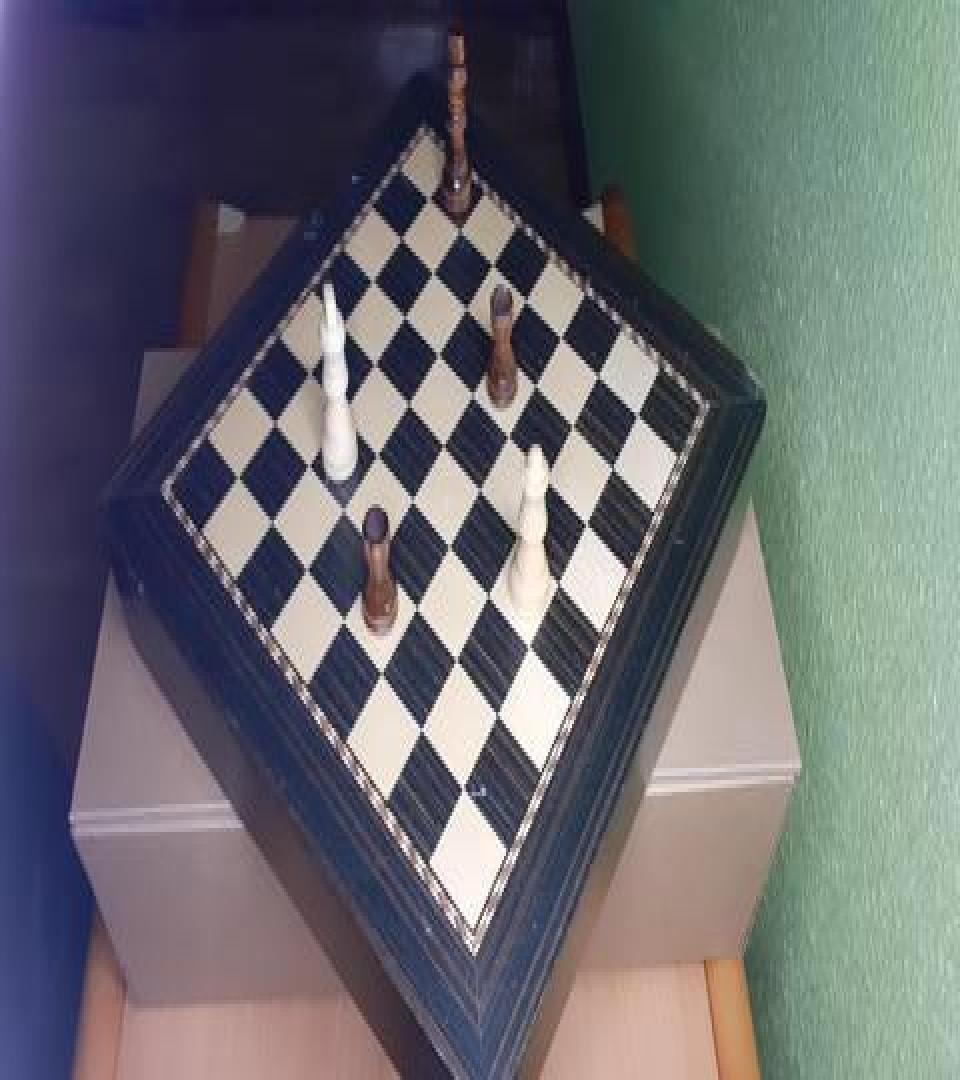xcorner: (419, 180, 431, 204), (392, 218, 404, 242), (363, 262, 375, 286), (333, 306, 345, 330), (300, 354, 312, 378), (266, 404, 278, 428), (229, 458, 241, 482), (451, 210, 463, 234), (424, 252, 436, 276), (395, 296, 407, 320), (365, 344, 377, 368), (333, 394, 345, 418), (299, 448, 311, 472), (262, 504, 274, 528), (484, 244, 496, 268), (457, 288, 469, 312), (429, 334, 441, 358), (399, 384, 411, 408), (367, 436, 379, 460), (333, 492, 345, 516), (297, 552, 309, 576), (519, 280, 531, 304), (492, 326, 504, 350), (465, 374, 477, 398), (435, 426, 447, 450), (403, 482, 415, 506), (370, 540, 382, 564), (333, 604, 345, 628), (555, 316, 567, 340), (529, 364, 541, 388), (502, 416, 514, 440), (473, 470, 485, 494), (442, 530, 454, 554), (408, 592, 420, 616), (372, 660, 384, 684), (593, 354, 605, 378), (568, 406, 580, 430), (541, 460, 553, 484), (513, 518, 525, 542), (482, 580, 494, 604), (449, 646, 461, 670), (414, 718, 426, 742), (633, 396, 645, 420), (609, 448, 621, 472), (583, 506, 595, 530), (555, 566, 567, 590), (525, 632, 537, 656), (492, 704, 504, 728), (457, 780, 469, 804)
